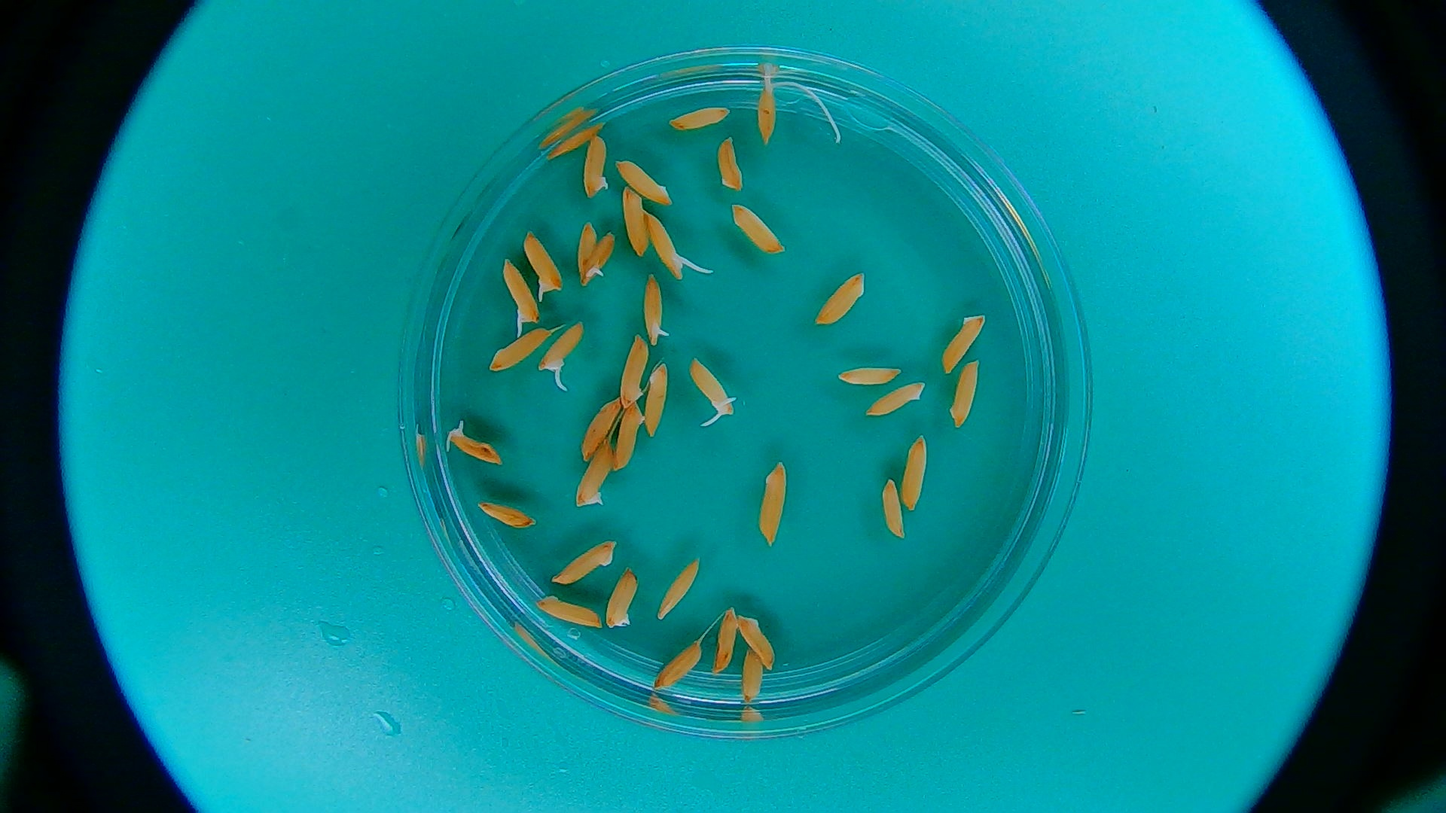no: (645, 640, 718, 693), (813, 265, 869, 327), (577, 389, 621, 467), (550, 537, 616, 586), (612, 158, 675, 208), (573, 442, 617, 513), (734, 610, 779, 678), (939, 311, 986, 376), (729, 204, 787, 255), (487, 326, 549, 373), (659, 556, 702, 623), (618, 178, 651, 263), (758, 462, 789, 547), (617, 333, 648, 407), (866, 381, 926, 419), (639, 359, 666, 440), (950, 363, 983, 426), (581, 134, 614, 196), (539, 595, 599, 629), (609, 565, 639, 632), (714, 607, 740, 684), (901, 437, 929, 507), (551, 123, 608, 155), (477, 501, 532, 534), (714, 139, 749, 190), (737, 648, 767, 707), (618, 400, 643, 470), (669, 104, 730, 132), (840, 360, 898, 388), (880, 480, 908, 536), (578, 220, 597, 279)
yes: (645, 212, 694, 281), (684, 356, 736, 421), (499, 257, 541, 323), (539, 321, 589, 373), (522, 233, 563, 294), (447, 424, 502, 467), (758, 70, 783, 147), (581, 234, 616, 286)
